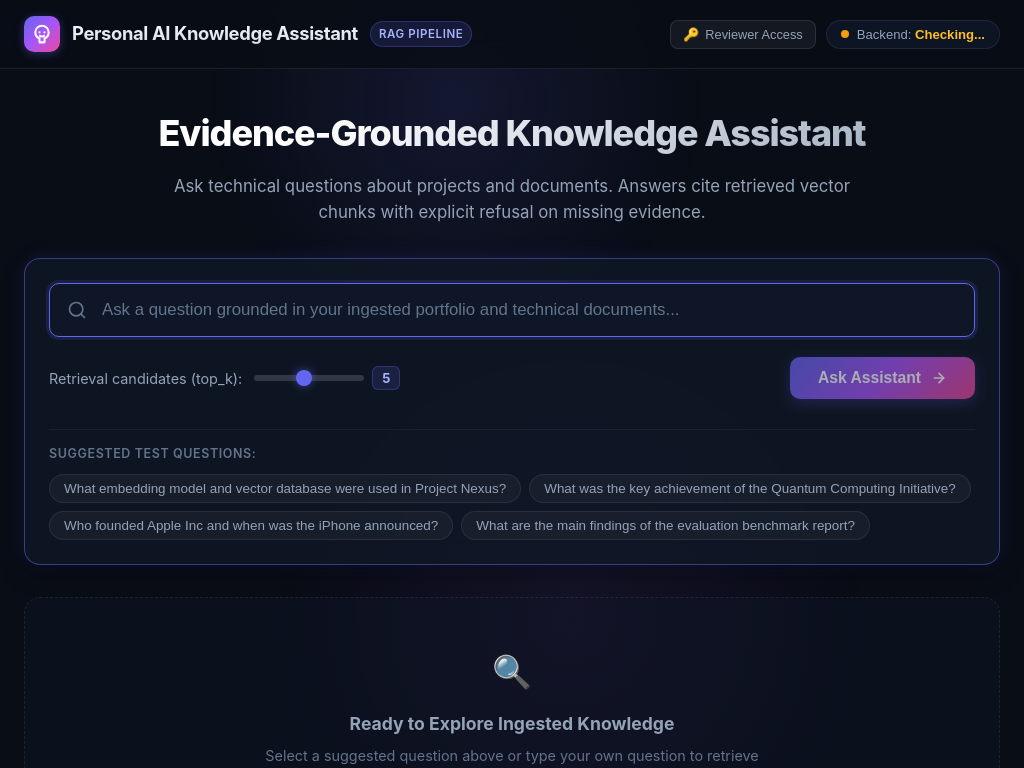
Test: Frontend UI Application (app/page.tsx) › renders answered state with accurate wording and raw cosine distance
Replace the text in the field with test id "search-input" with "What embedding model was used?" at (512, 310), box left=49, top=283, right=975, bottom=337
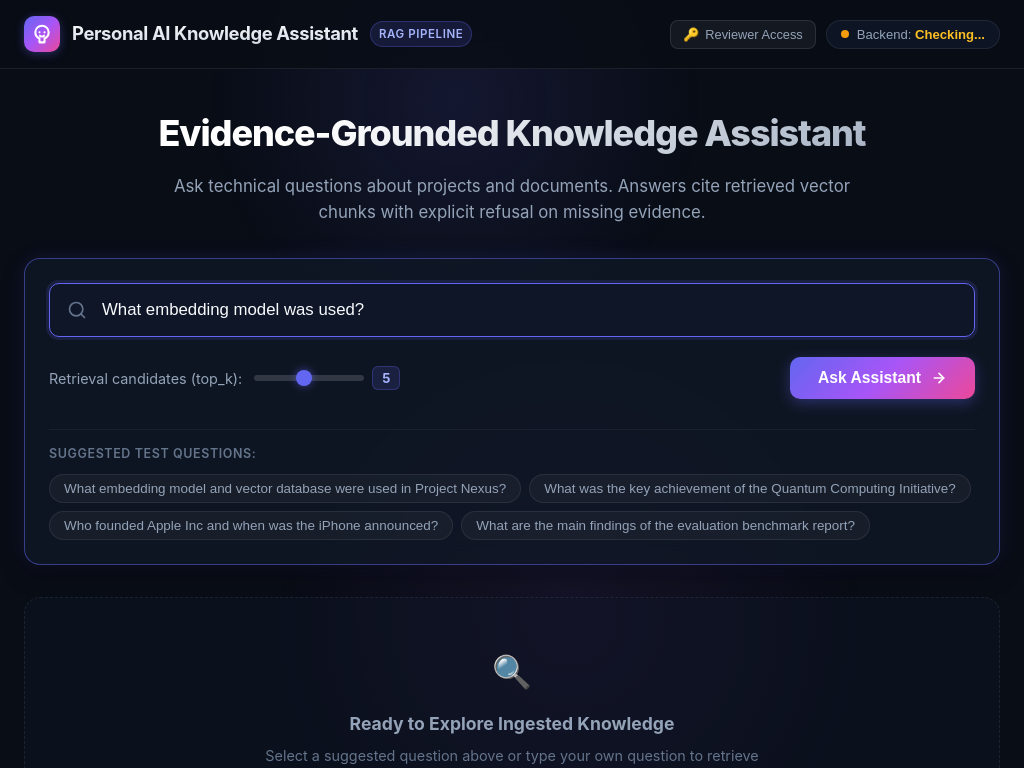
Click the button with test id "submit-btn" at (882, 378), box left=790, top=357, right=975, bottom=399
(page scrolled)
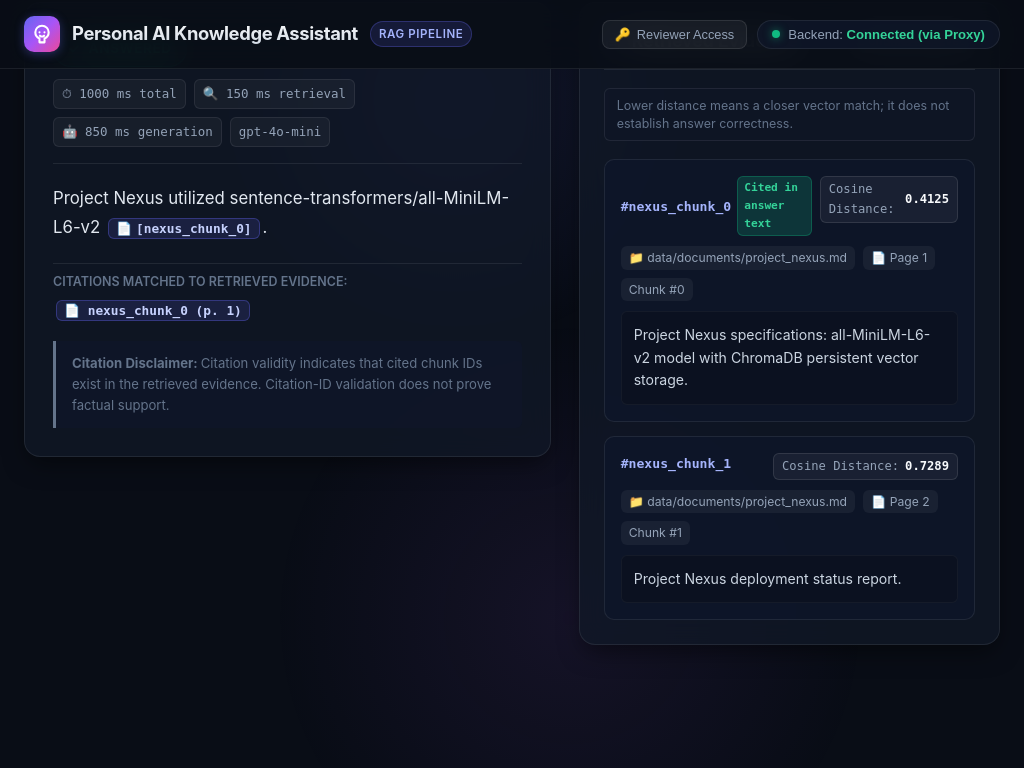
Check: the element with test id "citations-section" shows "CITATIONS MATCHED TO RETRIEVED EVIDENCE:", box left=53, top=274, right=347, bottom=289
Check: the text with test id "distance-disclaimer" shows "Lower distance means a closer vector match; it does not establish answer correctness.", box left=617, top=98, right=950, bottom=131
Check: the element with test id "dist-nexus_chunk_0" reads "Cosine Distance: 0.4125", box left=820, top=176, right=958, bottom=223
